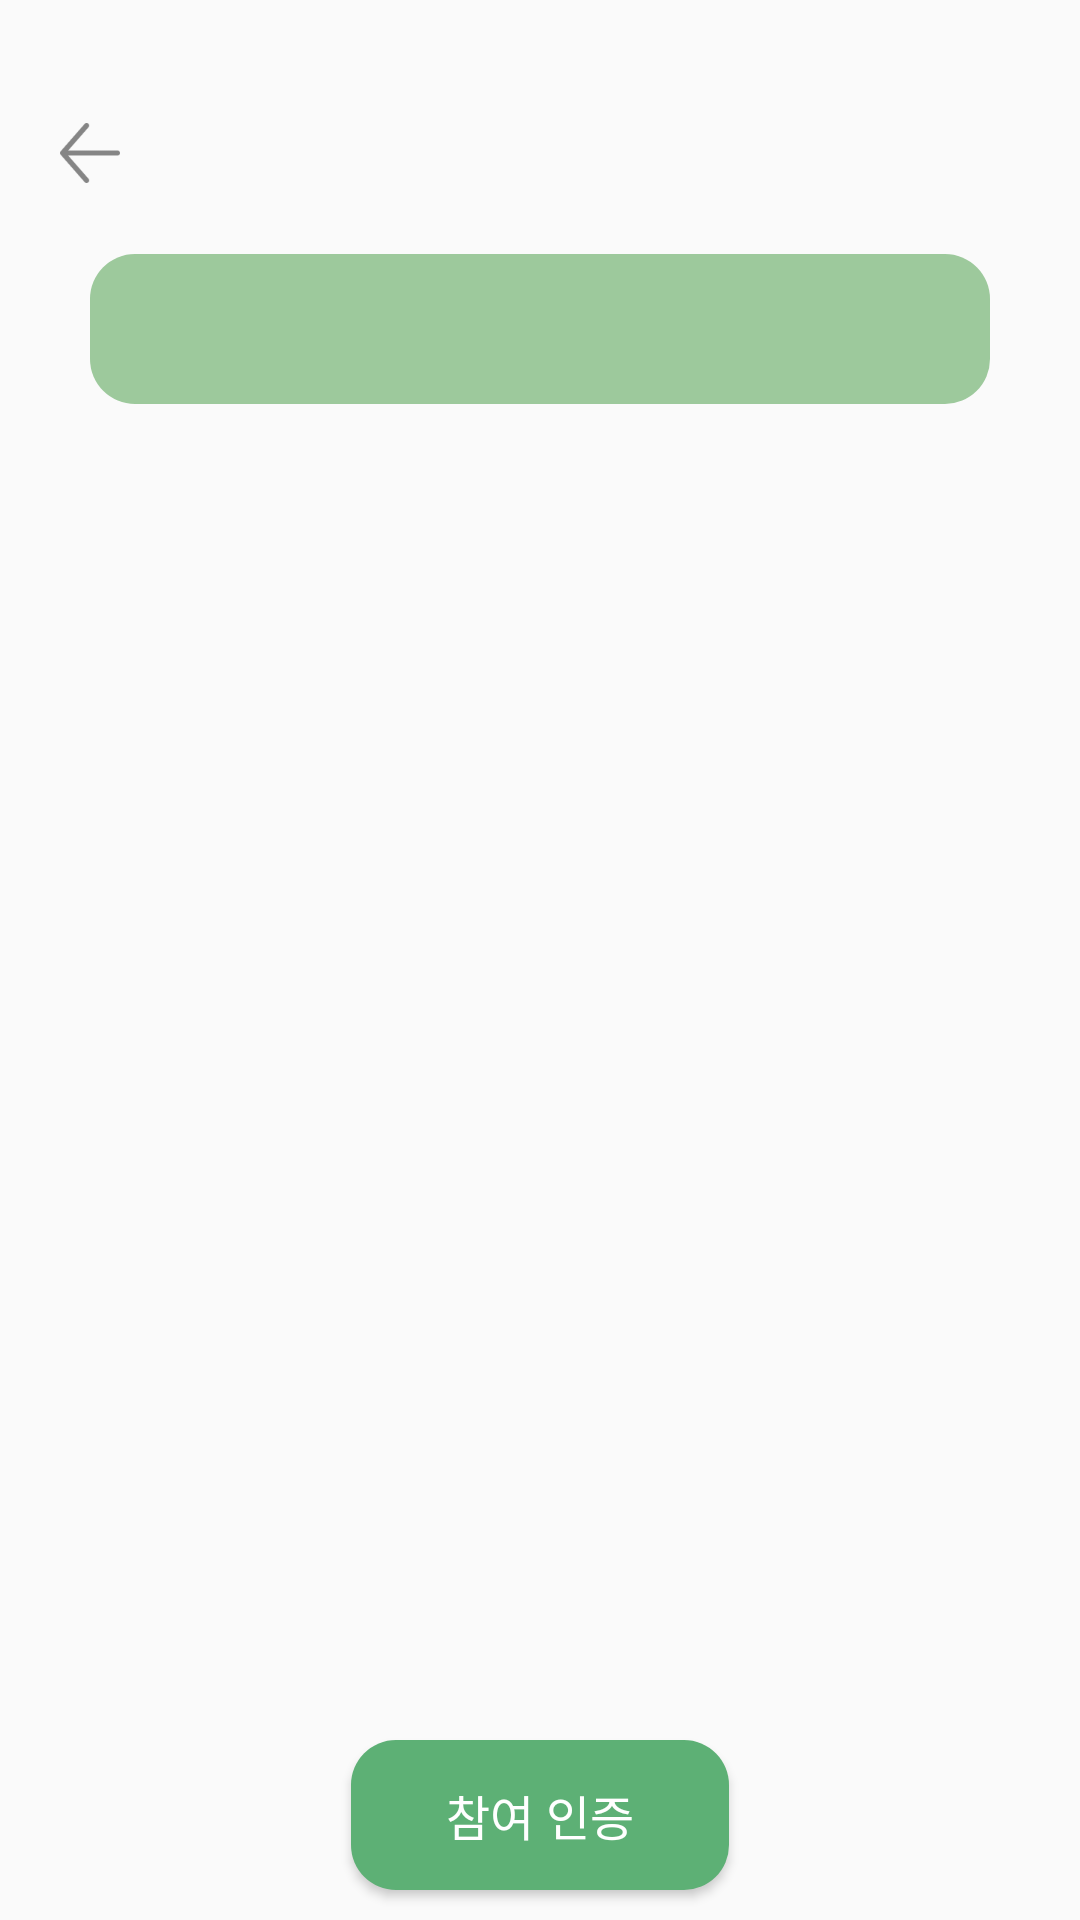

Locate icon controls on the screen. Image size 1080 × 1920, boxes as [x1, y1, x2, y2].
back: [60, 123, 120, 183]
